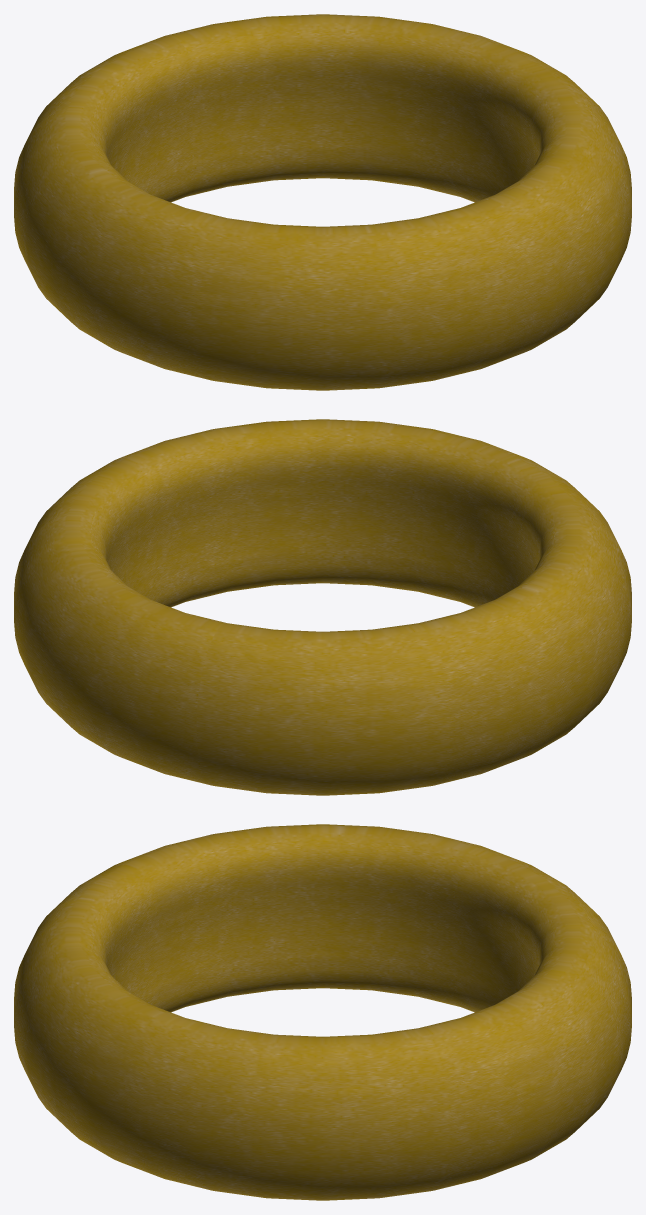
File: Wedding_Ring_Finished.fbx
The picture shows the model from 3 angles, top to bottom: view 1: azimuth 30°, elevation 25°; view 2: azimuth 150°, elevation 25°; view 3: azimuth 270°, elevation 25°; orthographic projection.
Visible parts, largest first — view 1: pTorus1; view 2: pTorus1; view 3: pTorus1.
Part boxes in pixels (box(x1,y1,x2,y2)): pTorus1: box(14, 14, 631, 390); pTorus1: box(14, 419, 631, 795); pTorus1: box(14, 824, 631, 1200).
Size of the model in its own units: 5.07 by 1.4 by 5.05.
Materials: 1 (1 with a texture image).
